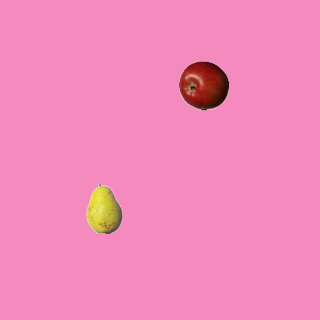Apple Braeburn: (178, 60, 228, 110)
Pear Monster: (79, 183, 129, 233)
